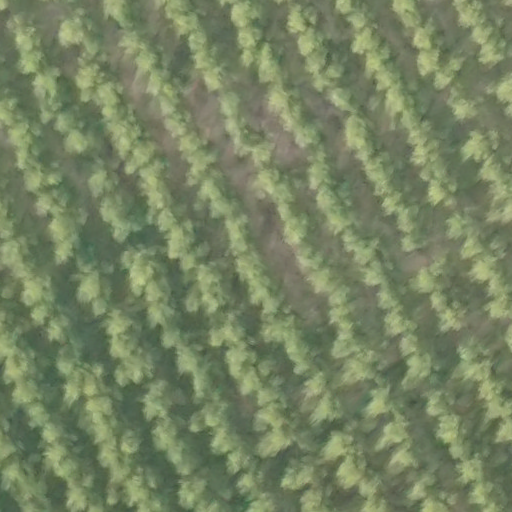eucalipto: (123, 246, 176, 300), (390, 203, 440, 257), (98, 193, 146, 247), (78, 59, 127, 111), (95, 432, 143, 481), (264, 84, 310, 133), (48, 212, 93, 260), (230, 122, 281, 163), (451, 338, 495, 381), (188, 397, 235, 437), (252, 167, 296, 209), (113, 350, 160, 389), (59, 124, 105, 163), (138, 379, 184, 418), (78, 269, 116, 316), (1, 233, 39, 278), (1, 344, 40, 387), (121, 136, 161, 177), (281, 453, 325, 490), (339, 228, 384, 264), (251, 400, 298, 434), (34, 68, 72, 110), (328, 318, 370, 356), (333, 449, 370, 492), (261, 314, 307, 348), (401, 351, 441, 390), (44, 441, 83, 480), (108, 317, 146, 357), (463, 125, 501, 164), (6, 377, 46, 414), (341, 352, 382, 388), (210, 422, 248, 460), (64, 14, 103, 51), (83, 163, 120, 202), (15, 272, 54, 309), (481, 375, 512, 421), (226, 1, 269, 34), (447, 86, 484, 124), (175, 474, 212, 512), (412, 256, 451, 292), (363, 383, 402, 419), (375, 418, 415, 453), (364, 150, 400, 188), (210, 317, 250, 351), (383, 80, 417, 119), (301, 161, 337, 197), (220, 215, 255, 252), (292, 118, 329, 153), (12, 46, 51, 79), (84, 395, 119, 430), (279, 216, 313, 251), (231, 251, 267, 284), (196, 65, 235, 95), (379, 310, 418, 340), (426, 173, 460, 207), (457, 452, 492, 485), (324, 429, 359, 462), (142, 298, 178, 330), (351, 28, 387, 60), (308, 265, 344, 296), (224, 345, 258, 377), (412, 51, 445, 83), (341, 116, 370, 152), (477, 37, 510, 68), (175, 127, 208, 158), (302, 371, 332, 405), (160, 324, 196, 352), (198, 175, 230, 206), (411, 21, 441, 54), (330, 85, 360, 117), (151, 415, 184, 444), (317, 185, 352, 212), (293, 29, 325, 58), (422, 392, 454, 420), (232, 27, 265, 54), (224, 447, 253, 477), (458, 234, 488, 261), (426, 287, 454, 313)
